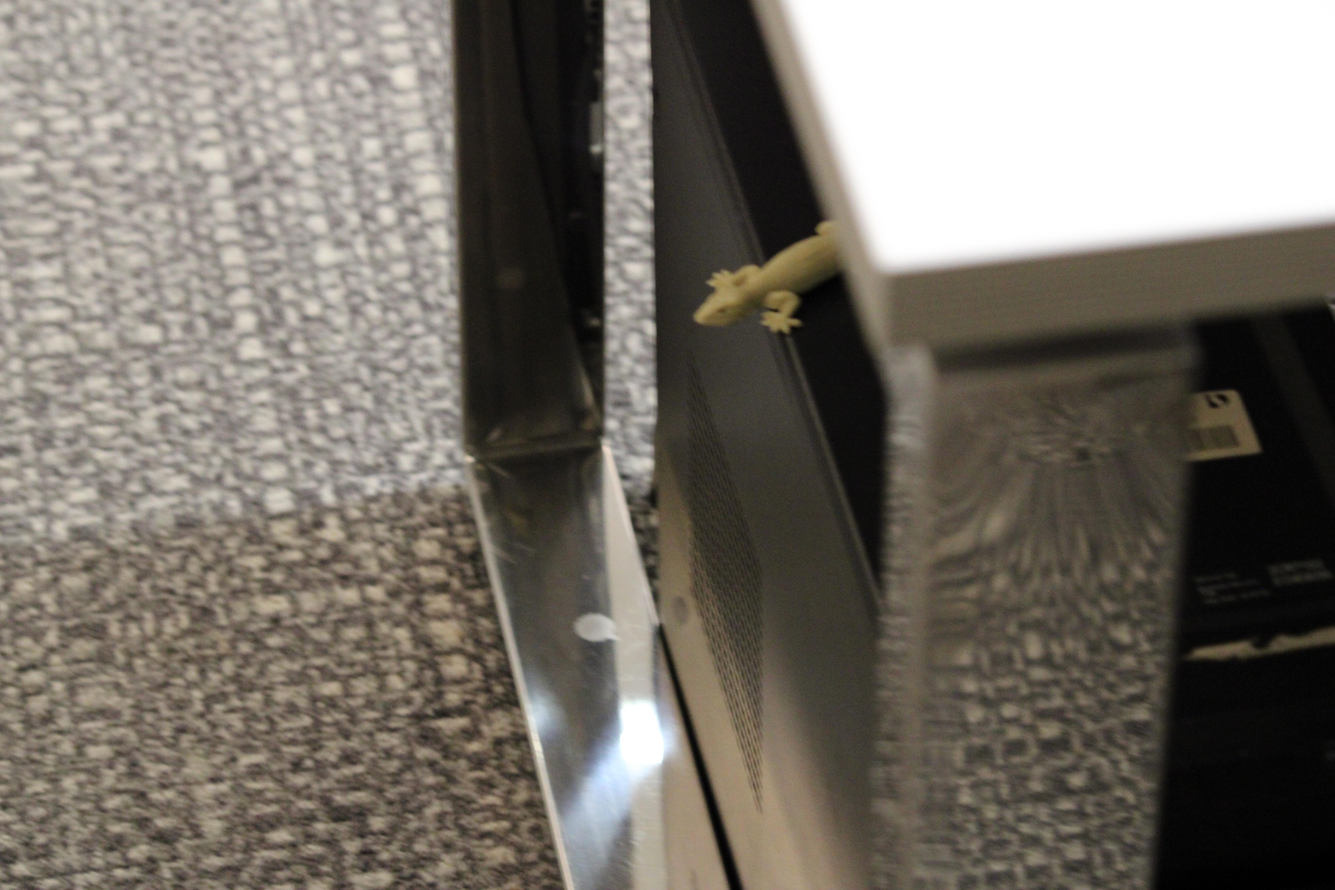lizard: (684, 216, 848, 340)
